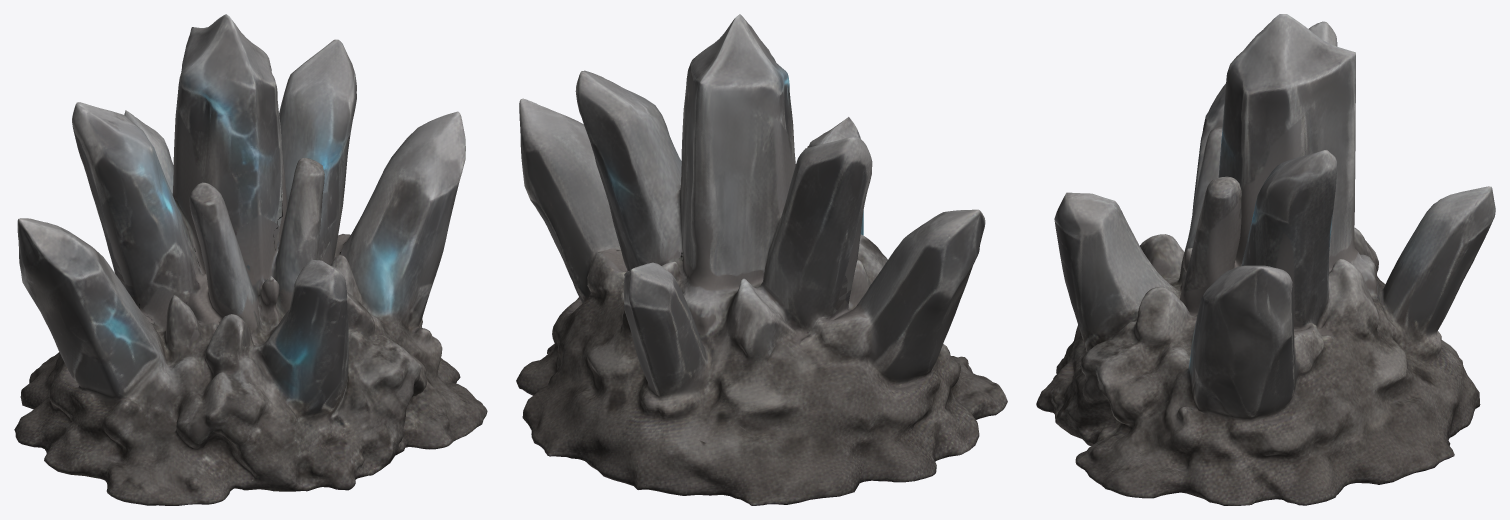
File: Crystal_base_basic_pbr.glb
The picture shows the model from 3 angles, left to right: view 1: azimuth 30°, elevation 25°; view 2: azimuth 150°, elevation 25°; view 3: azimuth 270°, elevation 25°; orthographic projection. The views are drawn at different scales.
Parts seen in each view (by area): view 1: model; view 2: model; view 3: model.
Boxes of the visible parts, x1,y1,x2,y2 form: model: (14,14,487,505); model: (516,14,1007,505); model: (1036,14,1495,505).
Size of the model in its own units: 1.89 by 1.59 by 1.68.
1 material, 1 textured.
